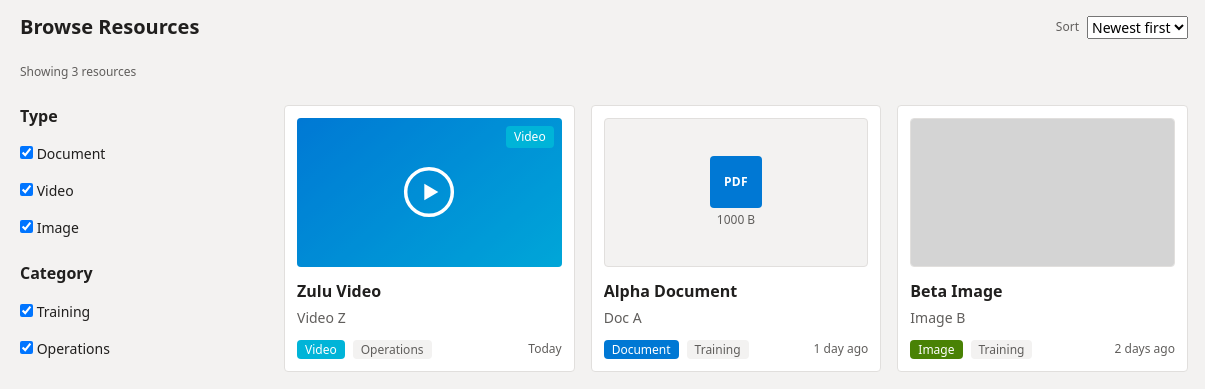
Test case: BrowsePage › shows empty state when filters yield 0 results
This screenshot has width=1205, height=389.
Expected: the text "Showing 3 resources" is shown, [20,63,136,80]
Step 1. Click the checkbox labelled "Document" → (26, 153), box [20,146,33,159]
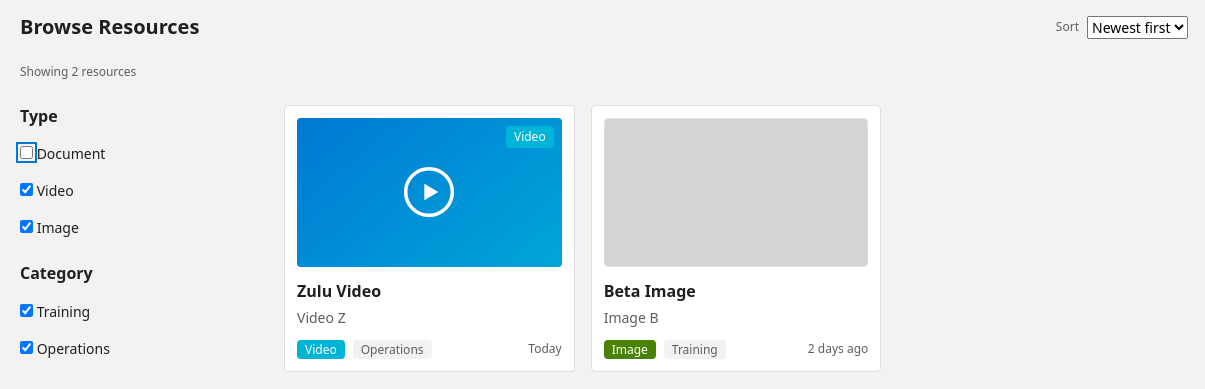
Step 2. Click the checkbox labelled "Video" → (26, 190), box [20,183,33,196]
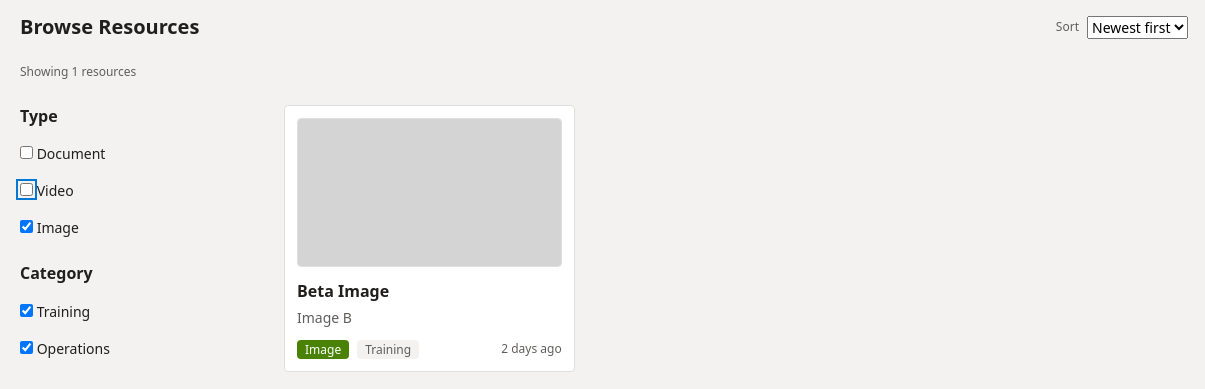
Step 3. Click the checkbox labelled "Image" → (26, 227), box [20,220,33,233]
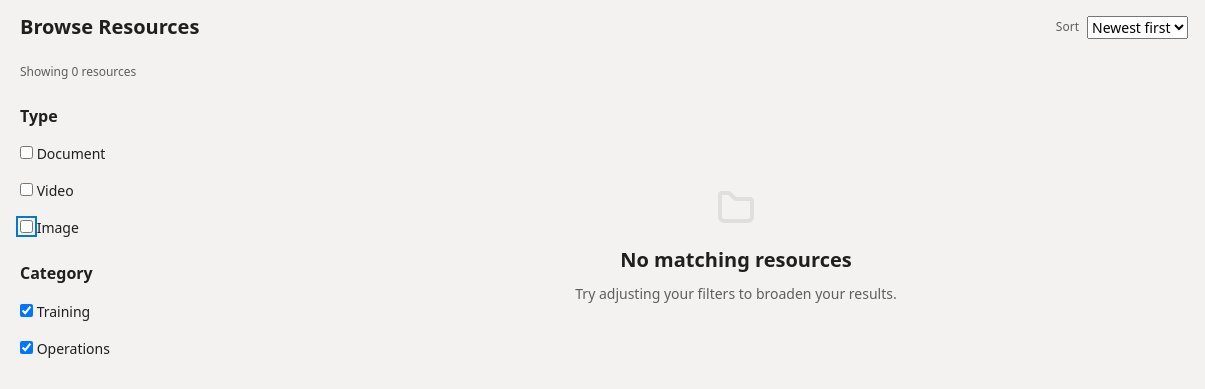
Expected: the heading "No matching resources" is shown, [620,246,852,273]
Expected: the text "Showing 0 resources" is shown, [20,63,136,80]
